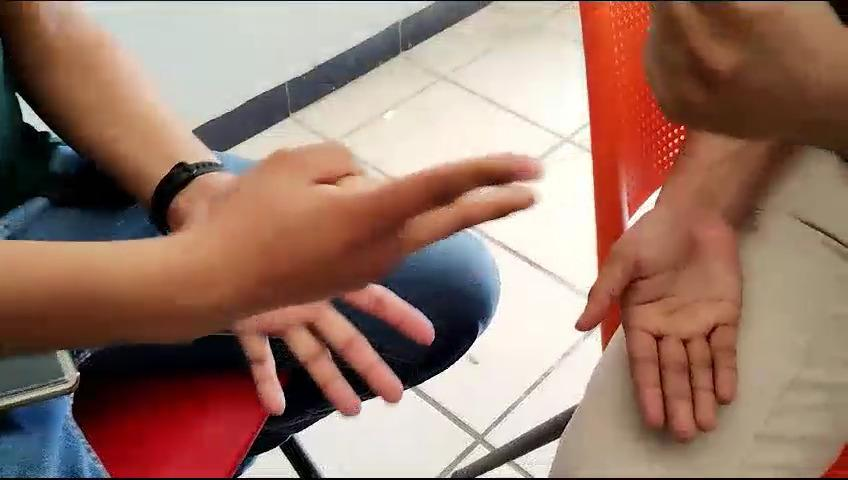Scissor: (151, 130, 566, 359)
